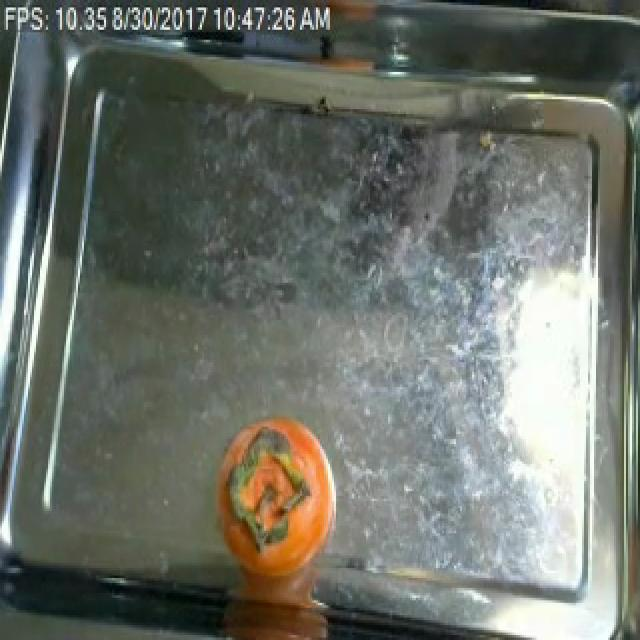Fruit: (196, 402, 352, 635), (304, 0, 386, 30)
